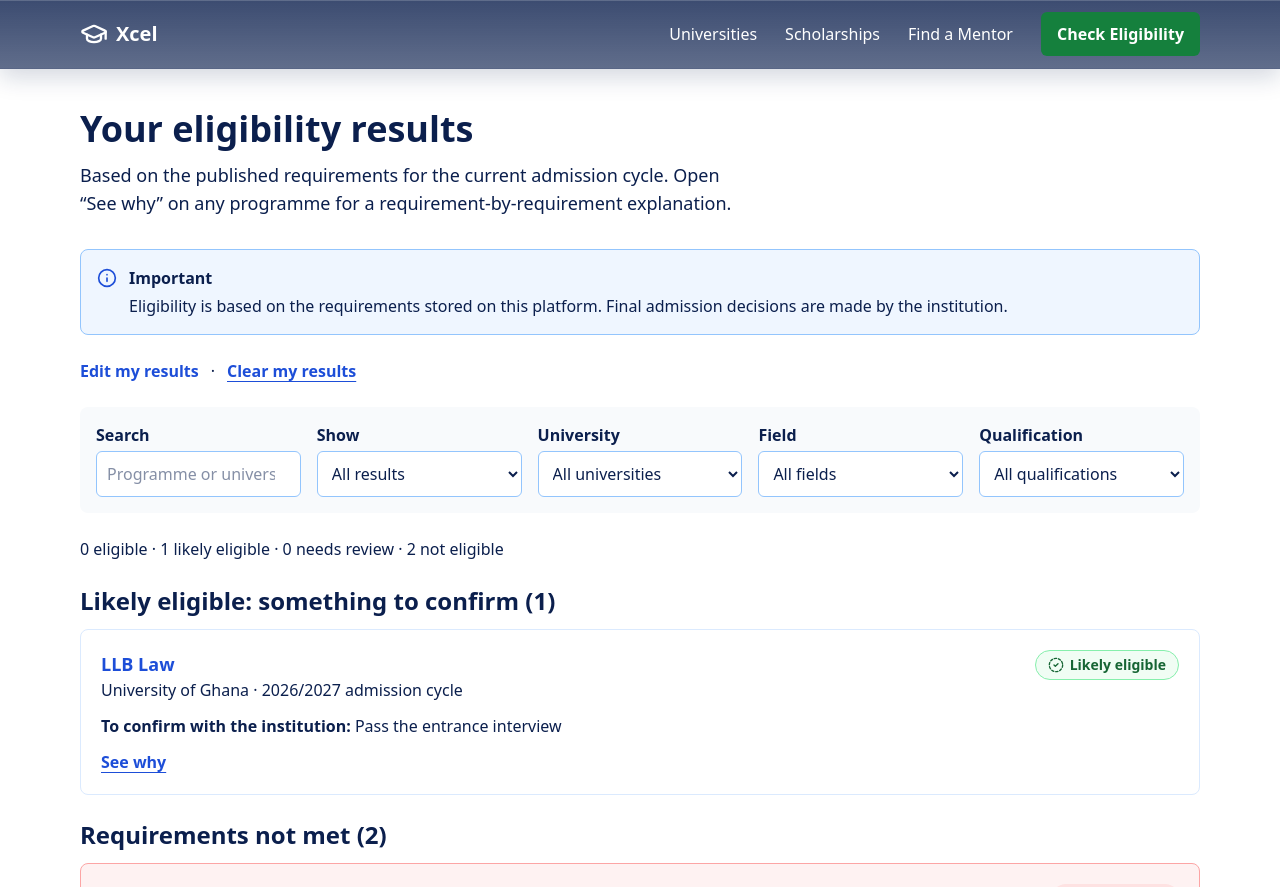
Test case: checking eligibility › clears results and returns to entry
Step 1. Click the button "Clear my results" → (292, 371), box left=227, top=359, right=356, bottom=383
(page scrolled)
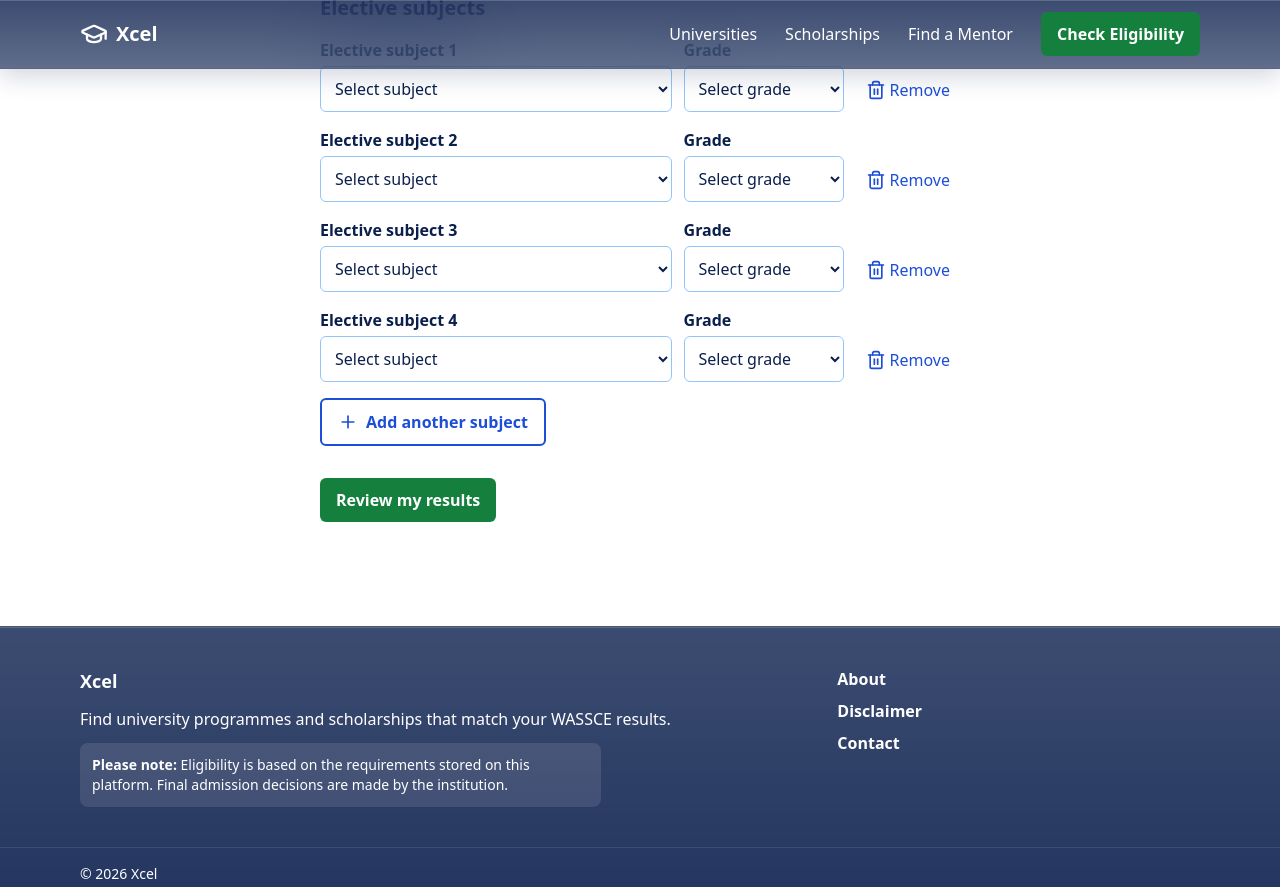
Now the button "Review my results" is shown, box left=320, top=478, right=496, bottom=522
